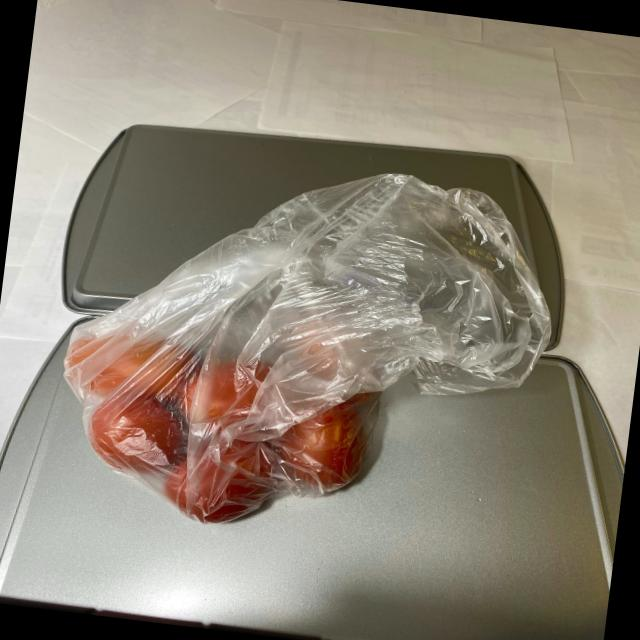tomato: (46, 295, 402, 547)
